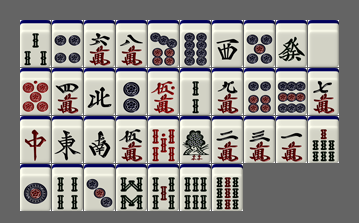0m: (148, 68, 179, 115)
0p: (20, 68, 51, 115)
0s: (148, 116, 179, 163)
1m: (276, 116, 307, 163)
1p: (20, 164, 51, 211)
1s: (180, 116, 211, 163)
1z: (52, 116, 83, 163)
2m: (212, 116, 243, 163)
2p: (116, 68, 147, 115)
2s: (180, 68, 211, 115)
2z: (84, 116, 115, 163)
3m: (244, 116, 275, 163)
3p: (84, 164, 115, 211)
3s: (20, 20, 51, 67)
3z: (212, 20, 243, 67)
4m: (52, 68, 83, 115)
4p: (52, 20, 83, 67)
4s: (52, 164, 83, 211)
4z: (84, 68, 115, 115)
5m: (116, 116, 147, 163)
5p: (244, 20, 275, 67)
5s: (148, 164, 179, 211)
5z: (308, 20, 339, 67)
6m: (84, 20, 115, 67)
6p: (244, 68, 275, 115)
6s: (180, 164, 211, 211)
6z: (276, 20, 307, 67)
7m: (308, 68, 339, 115)
7p: (148, 20, 179, 67)
7s: (308, 116, 339, 163)
7z: (20, 116, 51, 163)
8m: (116, 20, 147, 67)
8p: (180, 20, 211, 67)
8s: (116, 164, 147, 211)
9m: (212, 68, 243, 115)
9p: (276, 68, 307, 115)
9s: (212, 164, 243, 211)
